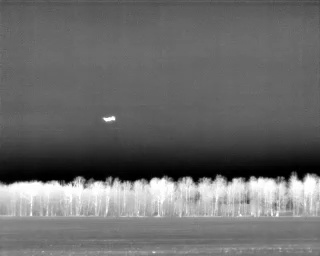DRONE: (99, 111, 120, 126)
